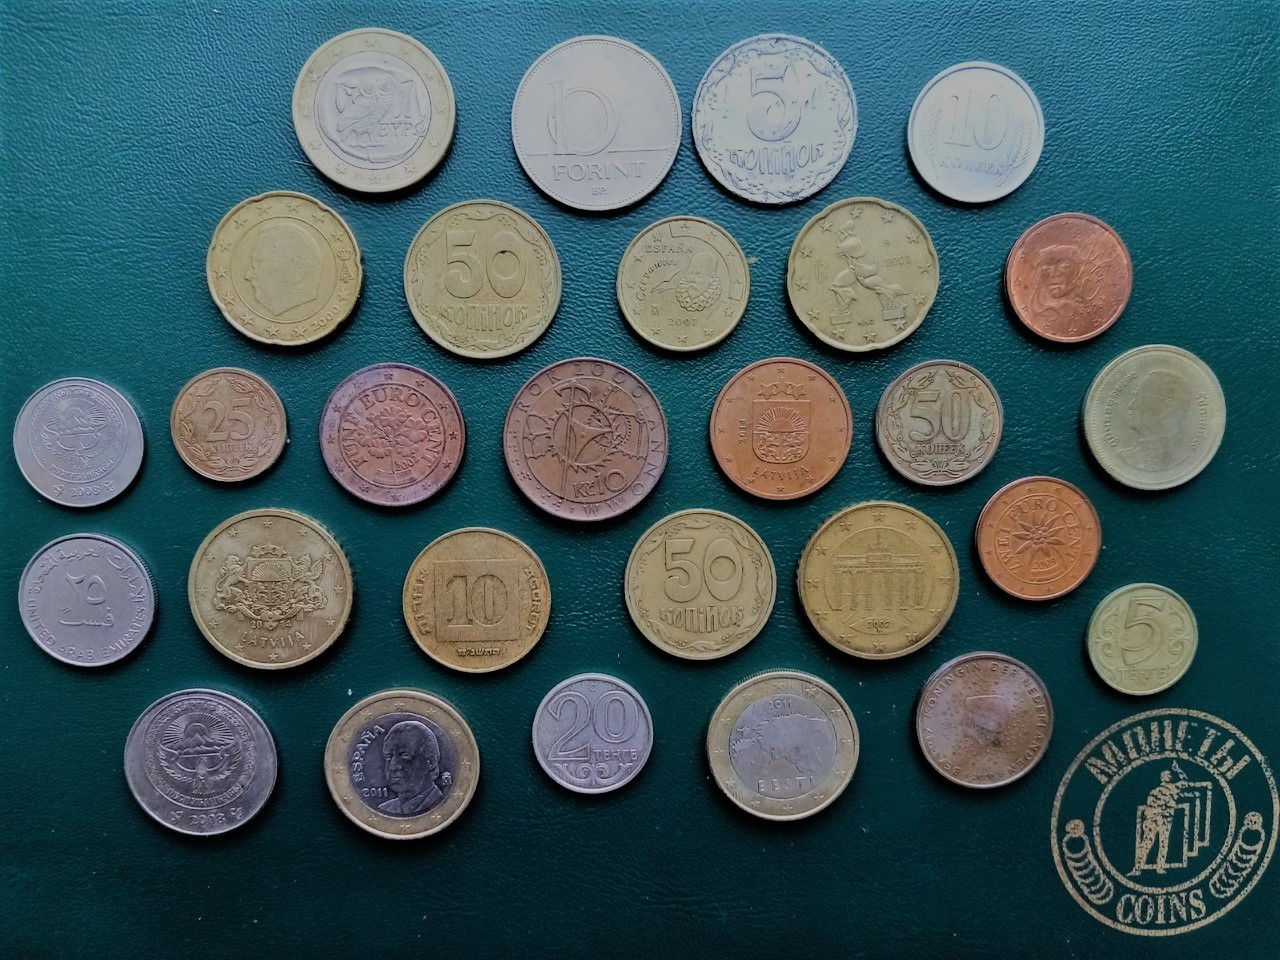coin: (509, 37, 683, 211), (690, 33, 858, 203), (501, 359, 667, 522), (292, 29, 455, 194), (187, 512, 355, 670), (796, 503, 959, 659), (403, 202, 563, 358), (204, 190, 363, 345), (122, 687, 281, 835), (786, 198, 940, 350), (323, 690, 479, 840), (706, 669, 859, 819), (626, 512, 777, 661), (402, 530, 553, 674), (1078, 346, 1226, 490), (319, 361, 465, 506), (709, 359, 852, 502), (905, 63, 1046, 202), (917, 654, 1055, 789), (17, 533, 157, 666), (616, 218, 749, 351), (11, 378, 145, 509), (1006, 213, 1133, 343), (875, 360, 1003, 485), (974, 478, 1101, 600), (531, 675, 652, 795), (171, 368, 287, 482), (1087, 583, 1197, 697)
